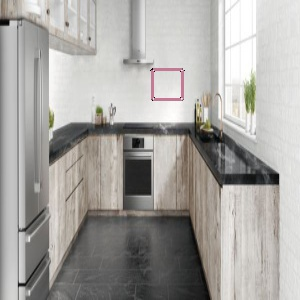square: (149, 66, 186, 102)
